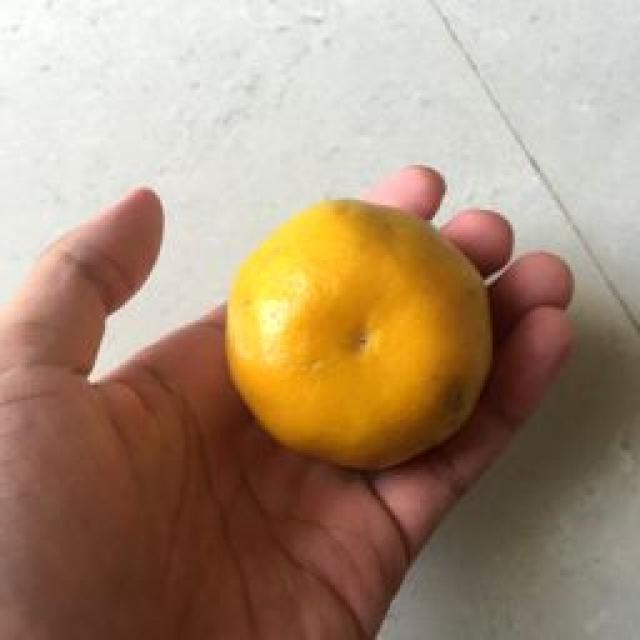Good_Orange: (222, 198, 495, 475)
